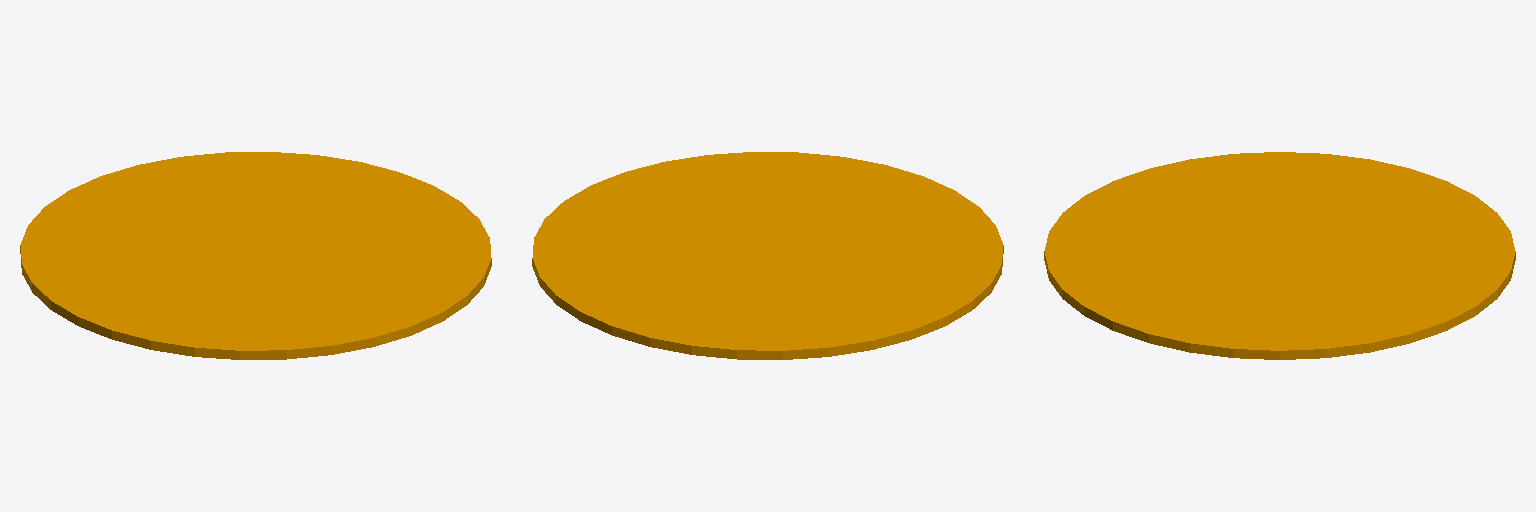
URDF robot description (snake/snake_planar_5_segments_disk_inner):
<?xml version="1.0"?>
<robot name="snake/snake_planar_5_segments_disk_inner">
 <link name="body">
  <inertial>
    <mass value="1"/>
    <inertia ixx="1.32333333333" ixy="0" ixz="0" iyy="1.32333333333" iyz="0" izz="1.3225"/>
  </inertial>
  <visual>
    <origin rpy="0 0 1.57" xyz="0 0 0"/>
    <geometry>
      <cylinder length="0.1" radius="2.3"/>
    </geometry>
  </visual>
  <collision>
    <origin rpy="0 0 1.57" xyz="0 0 0"/>
    <geometry>
      <cylinder length="0.1" radius="2.3"/>
    </geometry>
  </collision>
 </link>

  <klampt package_root="../../.." default_acc_max="4" >
  </klampt>
</robot>

--- Facts derived from the render (not from the file) ---
3 views of the same robot in one strip: view 1: azimuth 30°, elevation 25°; view 2: azimuth 150°, elevation 25°; view 3: azimuth 270°, elevation 25° (orthographic).
Robot: snake/snake_planar_5_segments_disk_inner — 1 links, 0 joints (none); root link body; default pose: every joint at zero.
Visible links, largest first — view 1: body; view 2: body; view 3: body.
Link boxes in pixels (box(x1,y1,x2,y2)): body: box(20, 152, 491, 359); body: box(532, 152, 1003, 359); body: box(1044, 152, 1515, 359).
Size in the robot's own frame: 4.6 by 4.6 by 0.1 metres.
Geometry: primitives only (box / cylinder / sphere), no mesh files.